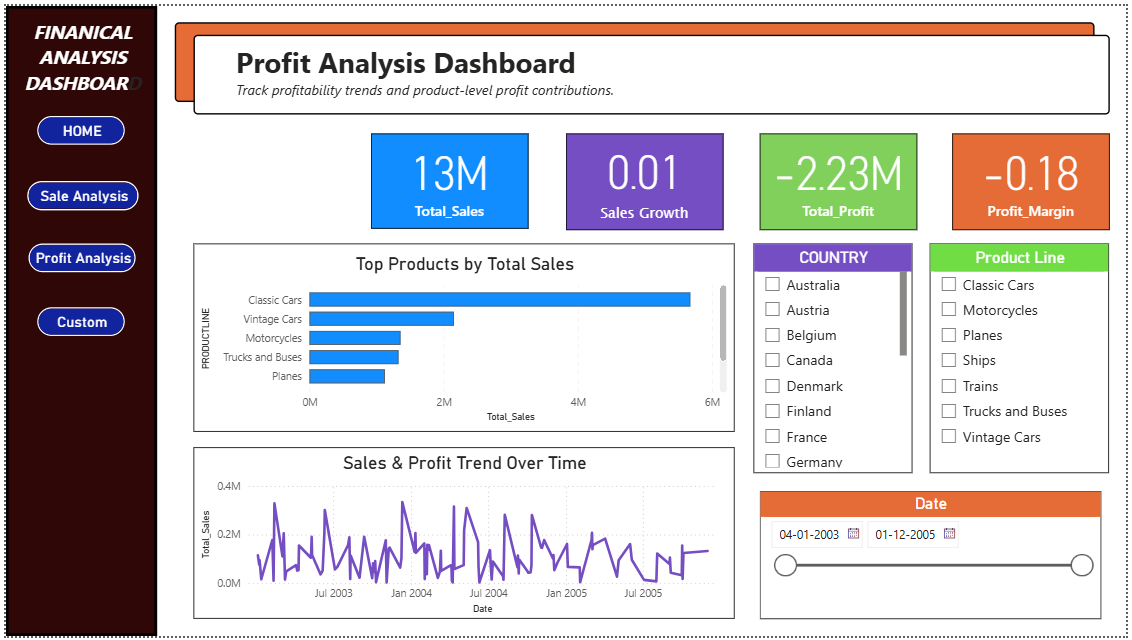

What the dashboard file says about the page in this screenshot:
{"tool":"powerbi","page":{"name":"Page 1","canvas":[1280,720],"ordinal":0},"visuals":[{"type":"card","fields":{"Values":["Final_sales.Total_Sales"]},"box":[417.5,145,180,108.8],"z":0},{"type":"card","fields":{"Values":["Final_sales.Total_Profit"]},"box":[861.2,145,180,110],"z":1000},{"type":"card","fields":{"Values":["Final_sales.Sales Growth"]},"box":[640,145,180,110],"z":2000},{"type":"card","fields":{"Values":["Final_sales.Profit_Margin"]},"box":[1081.2,145,180,110],"z":3000},{"type":"lineChart","title":"Sales & Profit Trend Over Time","fields":{"Category":["Date Table.Date"],"Y":["Final_sales.Total_Sales"]},"box":[213.8,503.8,618.8,196.2],"z":4000},{"type":"clusteredBarChart","title":"Top Products by Total Sales","fields":{"Category":["Product.PRODUCTLINE"],"Y":["Final_sales.Total_Sales"]},"box":[213.8,271.2,618.8,215],"z":5000},{"type":"slicer","title":"Date","fields":{"Values":["Date Table.Date"]},"box":[861.2,553.8,390,146.2],"z":6000},{"type":"slicer","title":"COUNTRY","fields":{"Values":["Customers.COUNTRY"]},"box":[853.8,271.2,181.2,262.5],"z":7000},{"type":"slicer","title":"Product Line","fields":{"Values":["Product.PRODUCTLINE"]},"box":[1056.2,271.2,205,262.5],"z":8000},{"type":"shape","box":[0,0,172.5,720],"z":9000},{"type":"textbox","box":[192.5,18.8,1051.2,91.2],"z":10000},{"type":"textbox","box":[213.8,32.5,1047.5,91.2],"z":11000},{"type":"textbox","box":[11.2,10,152.5,100],"z":12000},{"type":"actionButton","title":"HOME","box":[36.2,125,100,32.5],"z":13000},{"type":"actionButton","title":"Sale Analysis","box":[23.8,200,127.5,33.8],"z":14000},{"type":"actionButton","title":"Profit Analysis","box":[26.2,271.2,122.5,32.5],"z":15000},{"type":"actionButton","title":"Custom","box":[36.2,343.8,100,32.5],"z":16000}]}

Visuals, with their boxes in screenshot pixels (x1, y1, x2, y2), scaled from the page's 1280x720 canvas onto the 1132x640 screenshot:
card - Final_sales.Total_Sales: l=369, t=129, r=528, b=226
card - Final_sales.Total_Profit: l=762, t=129, r=921, b=227
card - Final_sales.Sales Growth: l=566, t=129, r=725, b=227
card - Final_sales.Profit_Margin: l=956, t=129, r=1115, b=227
"Sales & Profit Trend Over Time" lineChart: l=189, t=448, r=736, b=622
"Top Products by Total Sales" clusteredBarChart: l=189, t=241, r=736, b=432
"Date" slicer: l=762, t=492, r=1107, b=622
"COUNTRY" slicer: l=755, t=241, r=915, b=474
"Product Line" slicer: l=934, t=241, r=1115, b=474
shape: l=0, t=0, r=153, b=639
textbox: l=170, t=17, r=1100, b=98
textbox: l=189, t=29, r=1115, b=110
textbox: l=10, t=9, r=145, b=98
"HOME" actionButton: l=32, t=111, r=120, b=140
"Sale Analysis" actionButton: l=21, t=178, r=134, b=208
"Profit Analysis" actionButton: l=23, t=241, r=132, b=270
"Custom" actionButton: l=32, t=306, r=120, b=334
